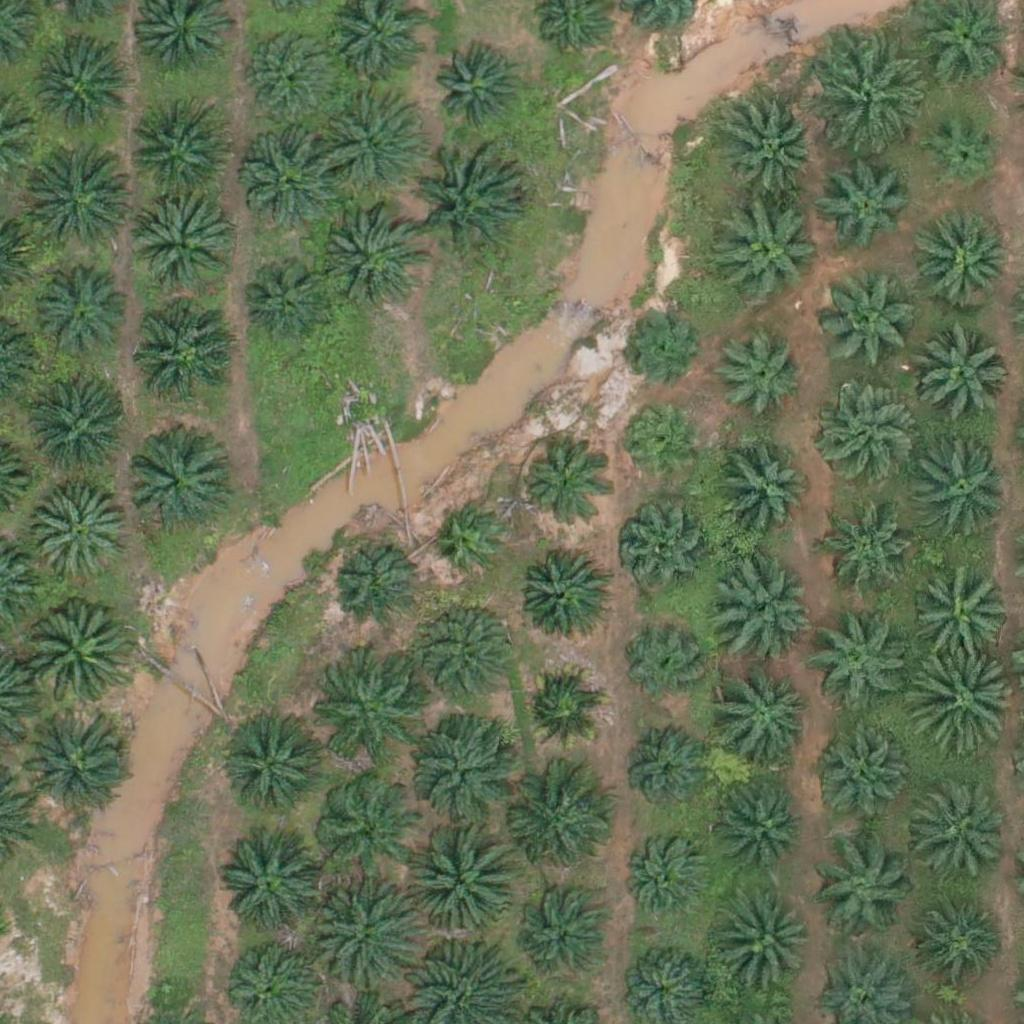Kelapa_Sawit: (811, 41, 924, 155), (407, 821, 520, 934), (408, 706, 521, 819), (305, 881, 418, 994), (409, 146, 522, 259), (905, 645, 1017, 759), (504, 765, 616, 878), (20, 598, 132, 711), (17, 706, 129, 819), (312, 83, 424, 196), (24, 141, 136, 254), (916, 569, 1016, 670), (808, 617, 908, 718), (810, 727, 910, 828), (715, 663, 815, 764), (309, 663, 409, 764), (315, 775, 415, 876), (221, 837, 321, 938), (227, 711, 327, 812), (124, 435, 224, 536), (31, 484, 131, 585), (816, 383, 916, 484), (708, 324, 808, 425), (318, 207, 418, 308), (243, 124, 343, 225), (127, 193, 227, 294), (127, 105, 227, 206), (31, 37, 131, 138), (904, 780, 1004, 880), (813, 837, 913, 937), (714, 444, 814, 544), (717, 560, 817, 660), (718, 897, 818, 997), (416, 598, 516, 698), (29, 386, 129, 486), (912, 210, 1012, 310), (912, 323, 1012, 423), (911, 438, 1011, 538), (820, 268, 920, 368), (724, 98, 824, 198), (715, 204, 815, 304), (133, 303, 233, 403), (29, 262, 129, 362), (248, 29, 336, 118), (909, 896, 997, 984), (830, 514, 918, 602), (717, 780, 805, 868), (618, 401, 706, 489), (622, 619, 710, 707), (623, 731, 711, 819), (623, 836, 711, 924), (331, 539, 419, 627), (620, 502, 707, 590), (522, 443, 609, 531), (518, 548, 605, 636), (518, 666, 605, 754), (515, 887, 602, 975), (821, 165, 908, 253), (620, 302, 707, 390), (435, 48, 522, 136), (244, 255, 331, 343), (434, 505, 509, 581), (925, 114, 1000, 190)
